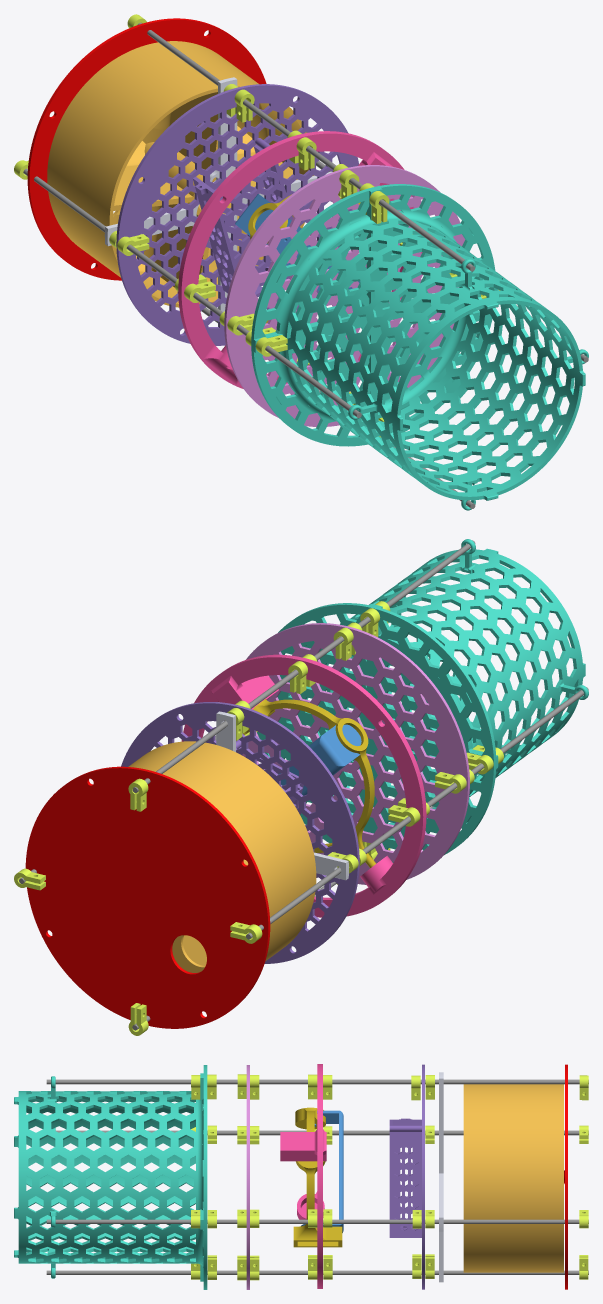
The model's file is cansat.glb.
3 views of the same model, one above another, from view 1: azimuth 30°, elevation 25°; view 2: azimuth 150°, elevation 25°; view 3: azimuth 270°, elevation 25° (orthographic). The views are drawn at different scales.
Visible parts, largest first — view 1: Object_9, Object_16, Object_44, Object_25, Object_15, Object_4, Object_46, Object_6, Object_8, Object_24, Object_20, Object_3 (+9 smaller); view 2: Object_46, Object_4, Object_16, Object_15, Object_44, Object_25, Object_6, Object_3, Object_39, Object_24, Object_20, Object_37 (+8 smaller); view 3: Object_16, Object_44, Object_3, Object_9, Object_24, Object_37, Object_6, Object_35, Object_8, Object_20, Object_15, Object_26 (+8 smaller).
Boxes of the visible parts, bbox=[...] form: Object_9: bbox=[275, 209, 582, 500]; Object_16: bbox=[286, 219, 585, 500]; Object_44: bbox=[47, 41, 309, 277]; Object_25: bbox=[118, 85, 358, 345]; Object_15: bbox=[254, 185, 547, 492]; Object_4: bbox=[224, 165, 465, 426]; Object_46: bbox=[29, 20, 266, 280]; Object_6: bbox=[178, 131, 422, 388]; Object_8: bbox=[251, 184, 488, 436]; Object_24: bbox=[116, 84, 340, 335]; Object_20: bbox=[287, 220, 583, 508]; Object_3: bbox=[23, 22, 588, 508]; Object_46: bbox=[25, 768, 268, 1028]; Object_4: bbox=[242, 623, 469, 884]; Object_16: bbox=[286, 539, 585, 818]; Object_15: bbox=[257, 566, 562, 862]; Object_44: bbox=[128, 741, 316, 972]; Object_25: bbox=[121, 703, 357, 963]; Object_6: bbox=[181, 654, 426, 917]; Object_3: bbox=[19, 540, 588, 1030]; Object_39: bbox=[14, 612, 487, 1009]; Object_24: bbox=[149, 702, 359, 953]; Object_20: bbox=[309, 552, 585, 753]; Object_37: bbox=[18, 601, 503, 1034]; Object_16: bbox=[14, 1076, 197, 1263]; Object_44: bbox=[463, 1084, 563, 1272]; Object_3: bbox=[46, 1079, 588, 1274]; Object_9: bbox=[14, 1091, 203, 1263]; Object_24: bbox=[389, 1064, 424, 1289]; Object_37: bbox=[191, 1074, 588, 1280]; Object_6: bbox=[280, 1064, 326, 1288]; Object_35: bbox=[191, 1087, 588, 1271]; Object_8: bbox=[97, 1065, 207, 1289]; Object_20: bbox=[14, 1091, 195, 1278]; Object_15: bbox=[51, 1091, 147, 1268]; Object_26: bbox=[293, 1174, 342, 1247].
Size of the model in its own units: 0.1473 by 0.1466 by 0.3731.
